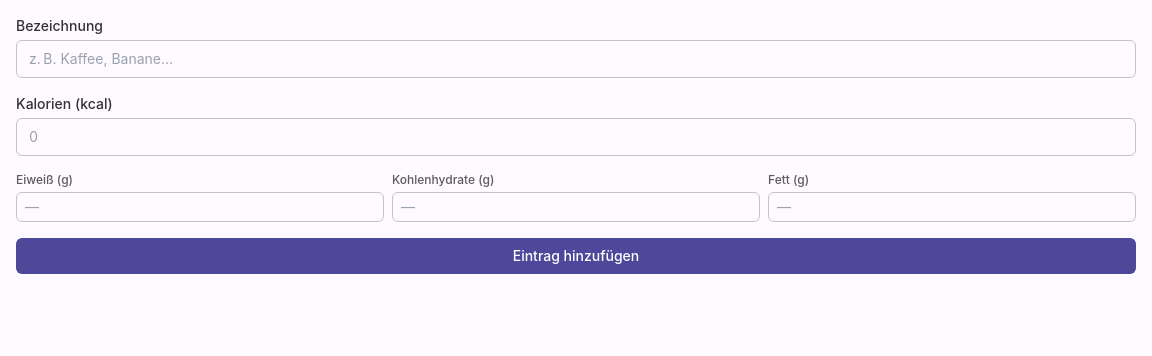
QuickEntryForm › stays open and shows error banner on backend failure
This screenshot has width=1152, height=356.
In the field labelled "Bezeichnung": (576, 59) 16,40 -> 1136,78, type "Fail"
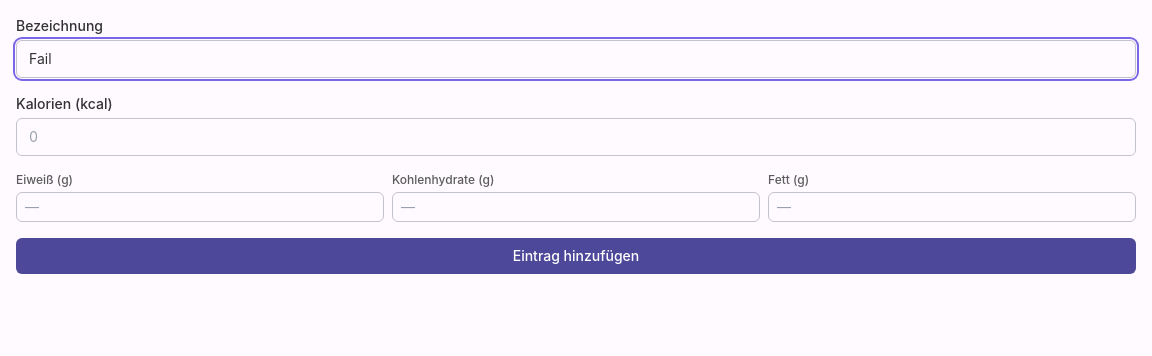
In the field labelled "Kalorien (kcal)": (576, 137) 16,118 -> 1136,156, type "100"
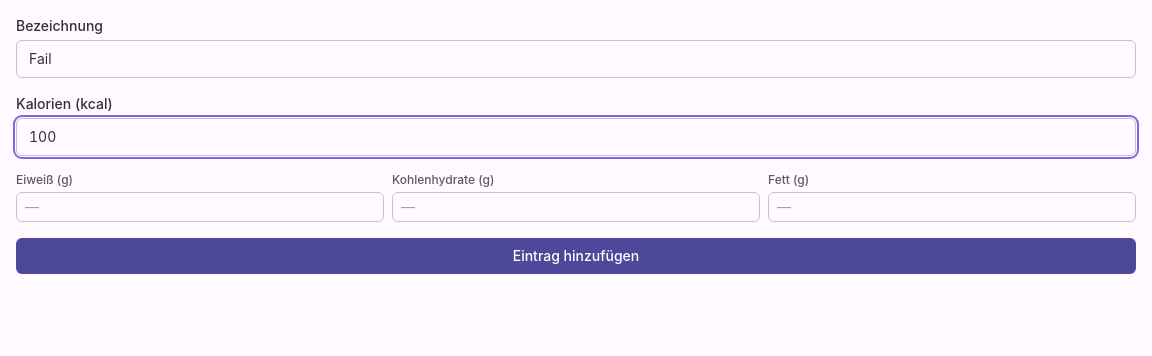
Click the button "Eintrag hinzufügen": (576, 256) 16,238 -> 1136,274
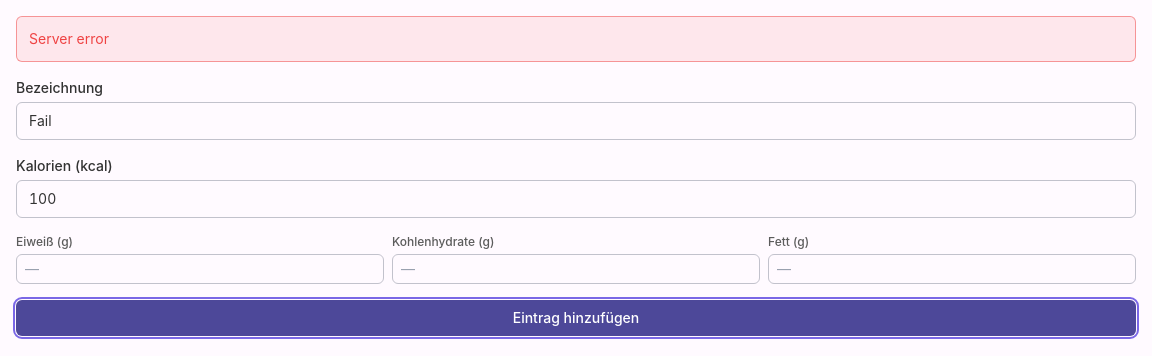
Expected: the message "Server error" is shown, 16,16 -> 1136,62
